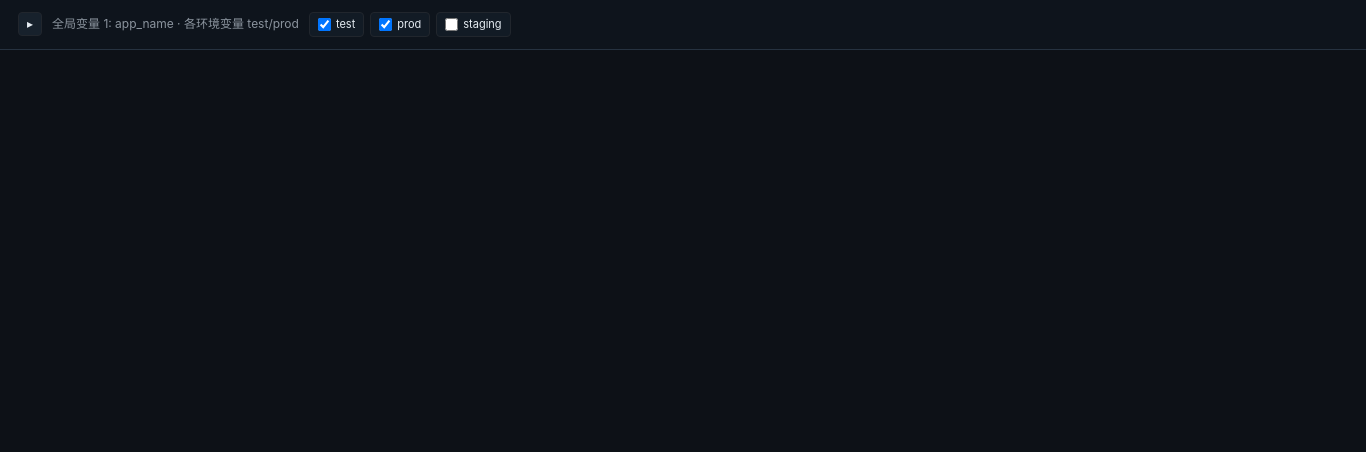
it: PipelineEnvMatrix › renders run groups as special rows inside the environment matrix
This screenshot has width=1366, height=452.
What coordinates should you click on to do the following:
click the button with test id "env-matrix-toggle"
I would click on:
 (30, 24)
Its box is [18,12,42,36].
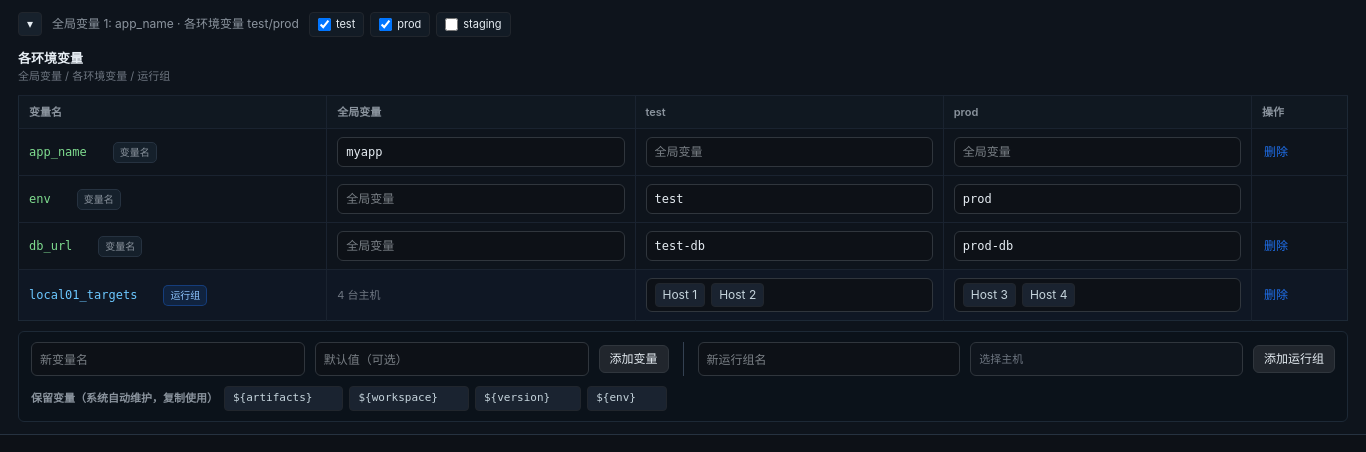
Result: the row with test id "env-var-row-local01_targets" shows "local01_targets" at [29,286,157,304]
Result: the row with test id "env-var-row-local01_targets" shows "运行组" at [170,288,200,300]
Result: the element with test id "role-hosts-test-local01_targets" shows "Host 1" at [646,278,933,312]
